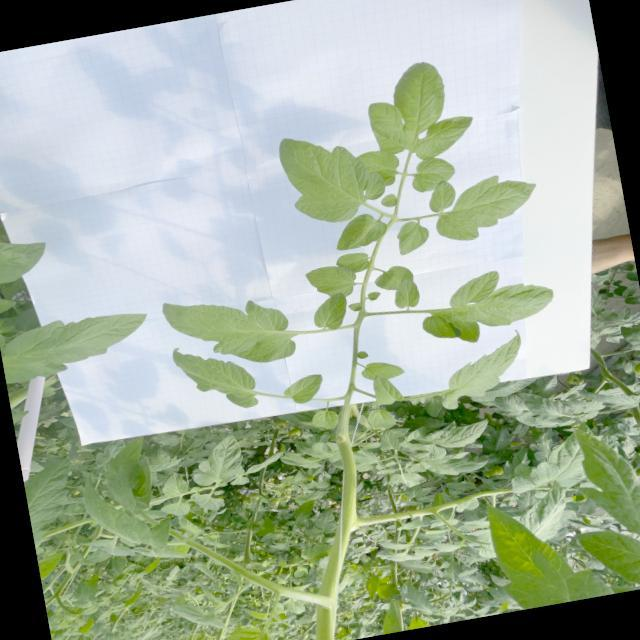Tomato healthy leaf: (484, 484, 613, 613), (555, 410, 640, 596), (160, 281, 298, 378), (414, 261, 560, 352), (361, 54, 478, 167), (0, 304, 154, 384), (276, 122, 390, 230), (424, 164, 544, 246), (78, 460, 174, 561), (425, 328, 531, 412), (502, 419, 602, 496), (169, 334, 259, 419), (20, 456, 84, 548), (510, 478, 572, 544), (186, 431, 247, 488), (418, 418, 492, 454), (330, 209, 390, 252), (576, 379, 640, 417), (303, 261, 359, 303), (470, 374, 543, 404), (420, 449, 490, 480), (354, 146, 402, 191), (516, 384, 568, 424), (408, 154, 457, 194), (78, 533, 136, 565), (309, 291, 351, 333), (280, 372, 326, 407), (404, 574, 438, 618), (242, 442, 288, 474), (394, 218, 432, 256), (372, 262, 415, 293), (370, 370, 405, 407), (108, 465, 136, 511), (294, 432, 336, 462), (360, 357, 406, 384), (516, 409, 564, 434), (374, 542, 424, 566), (391, 274, 422, 310), (279, 449, 323, 474), (184, 490, 226, 515), (94, 438, 128, 468), (334, 250, 371, 276), (494, 392, 530, 418), (386, 468, 426, 491), (158, 469, 189, 498), (308, 506, 337, 536), (366, 406, 396, 432), (310, 408, 340, 432), (177, 512, 204, 538), (376, 427, 402, 453), (378, 536, 413, 554), (433, 536, 468, 554), (159, 500, 191, 519), (293, 488, 329, 504), (150, 458, 184, 473), (281, 596, 306, 616), (153, 431, 180, 449), (424, 394, 444, 418), (454, 496, 479, 514), (395, 516, 422, 532), (428, 516, 458, 529), (404, 425, 428, 441), (446, 478, 473, 492), (414, 545, 443, 558), (403, 483, 423, 500), (357, 438, 381, 451), (356, 447, 376, 462), (80, 604, 100, 616), (425, 526, 449, 536), (230, 475, 250, 486), (375, 468, 395, 477), (398, 438, 412, 448), (374, 462, 386, 471)
